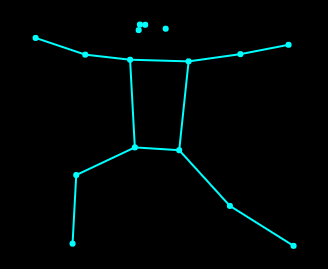warrior_2: (30, 16, 302, 252)
